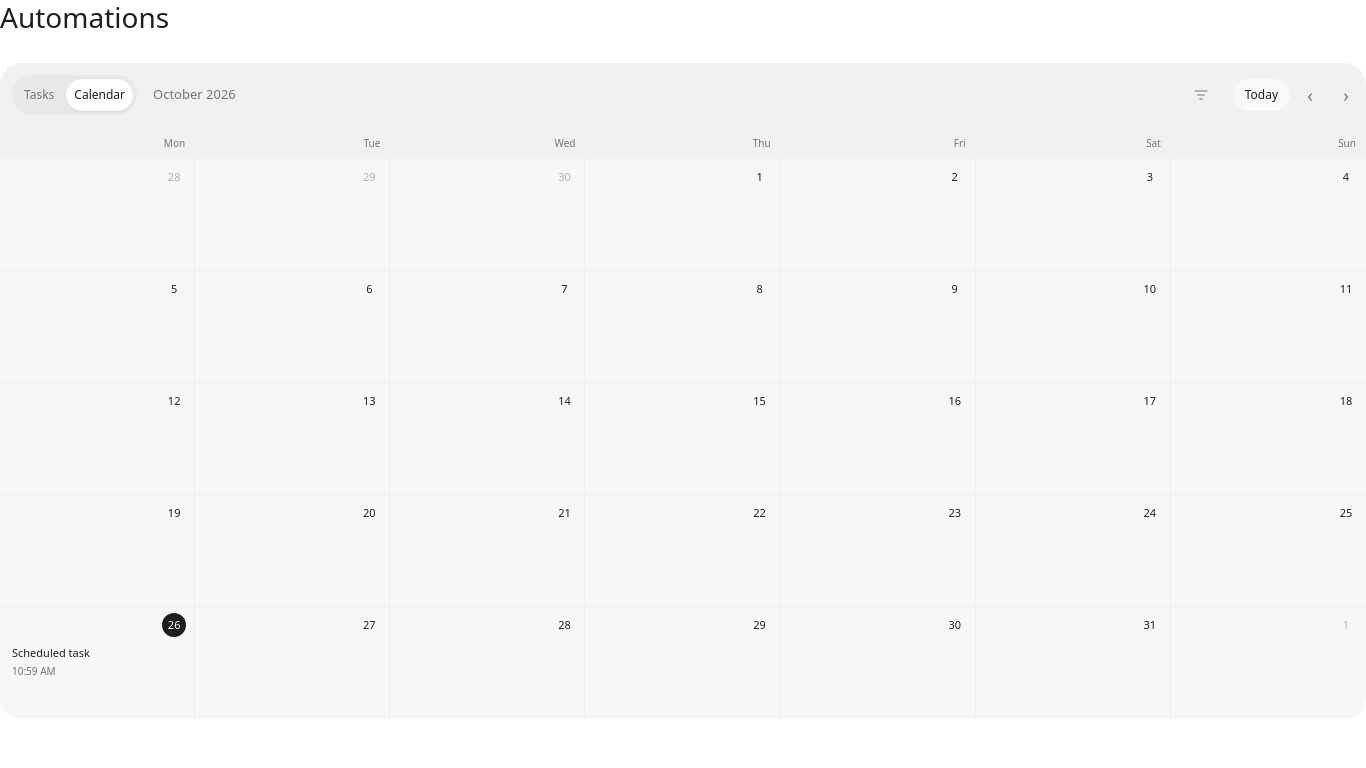
automation channel identity › preserves the label for cli
This screenshot has width=1366, height=768.
Step 1. Click the button "Scheduled task 10:59 AM" → click(97, 662), box [4,639,190,685]
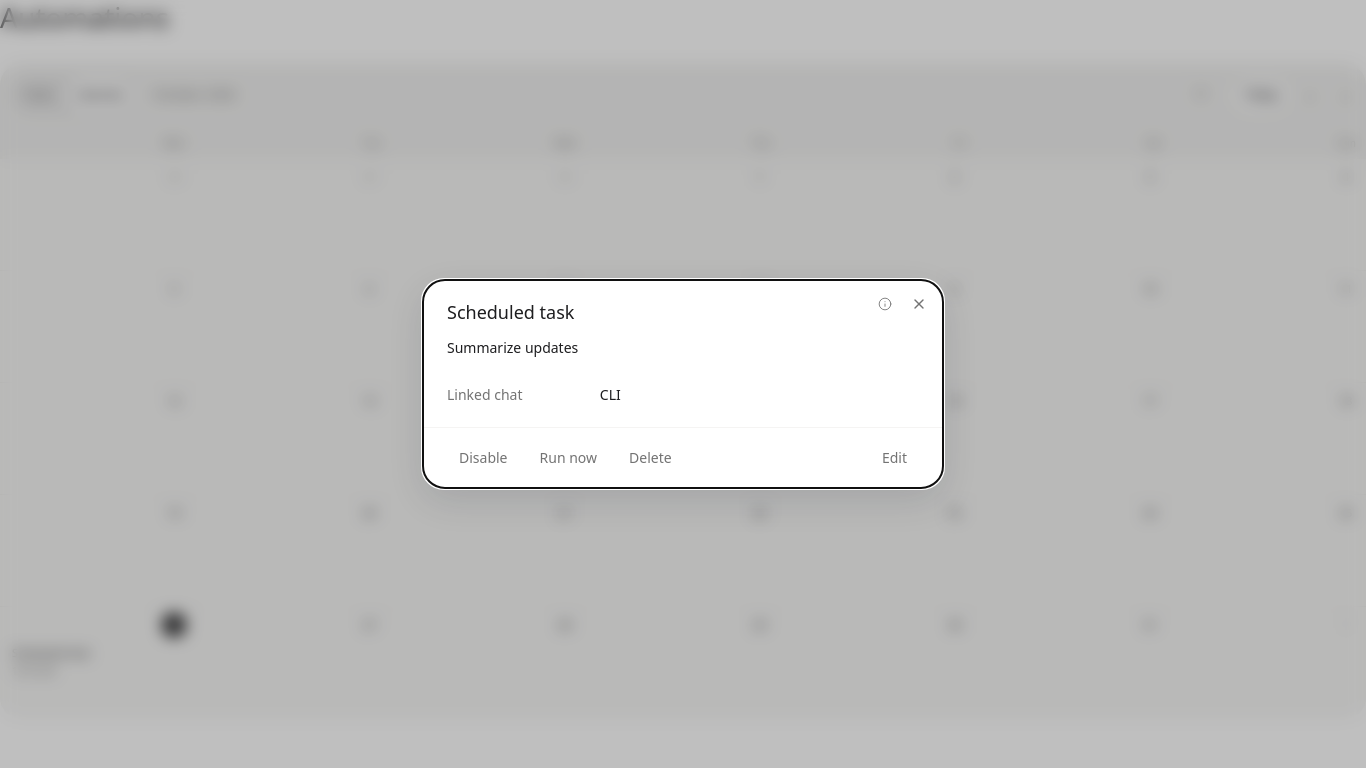
Check: the text "CLI" is shown, box [600,385,621,404]
